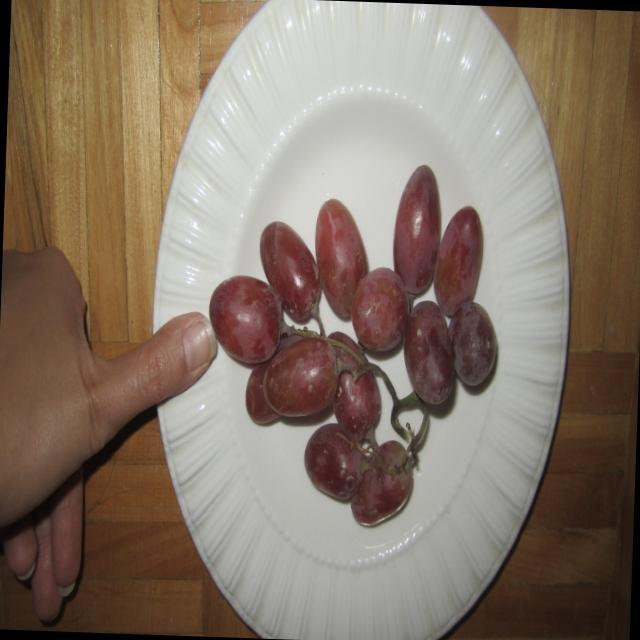Finger: (127, 301, 220, 393)
Grapes: (208, 150, 514, 542)
